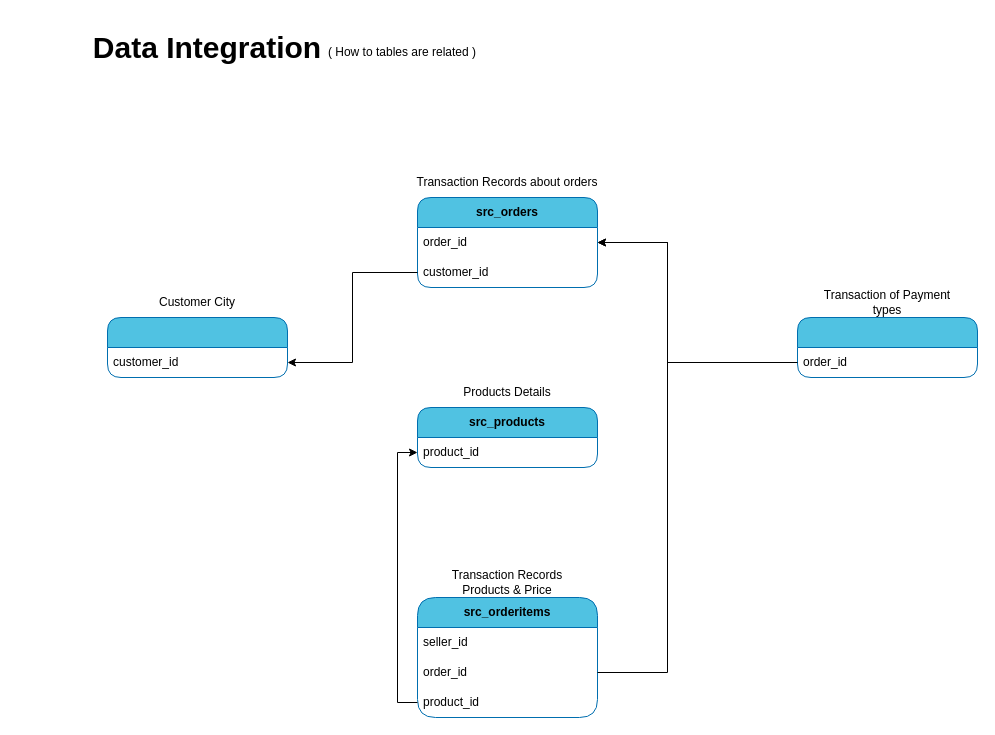
Some shapes in this 995 by 735 pixel diagram are drawn without their labels. Each missing label, with the box of its shape:
src_customer: (106, 316, 288, 378)
src_payments: (796, 316, 978, 378)
